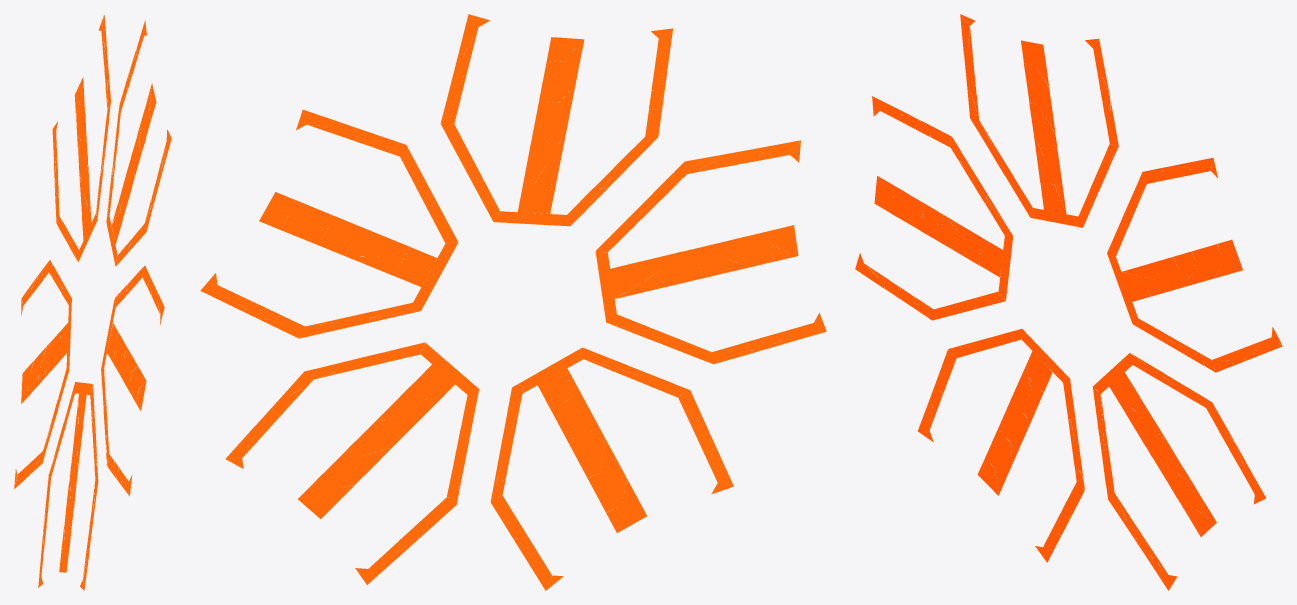
The model's file is POWER_LEGGING5_FACE1.glb.
3 renders of one model, left to right at view 1: azimuth 30°, elevation 25°; view 2: azimuth 150°, elevation 25°; view 3: azimuth 270°, elevation 25°, orthographic. The views are drawn at different scales.
Visible parts, largest first — view 1: TARGET_3, TARGET_4, TARGET_1, TARGET_2, TARGET_5; view 2: TARGET_5, TARGET_4, TARGET_3, TARGET_1, TARGET_2; view 3: TARGET_2, TARGET_1, TARGET_4, TARGET_5, TARGET_3.
Boxes of the visible parts, x1,y1,x2,y2 form: TARGET_3: (106,20,171,266); TARGET_4: (52,15,110,262); TARGET_1: (38,382,98,590); TARGET_2: (101,265,164,496); TARGET_5: (14,260,71,488); TARGET_5: (595,140,826,364); TARGET_4: (440,14,672,226); TARGET_3: (200,109,458,338); TARGET_1: (490,347,733,590); TARGET_2: (225,342,479,584); TARGET_2: (1092,353,1266,590); TARGET_1: (918,329,1084,562); TARGET_4: (960,14,1118,227); TARGET_5: (855,96,1013,320); TARGET_3: (1107,157,1282,372).
Bounding box in the file's own units: 0.7928 × 1.11 × 0.7903.
